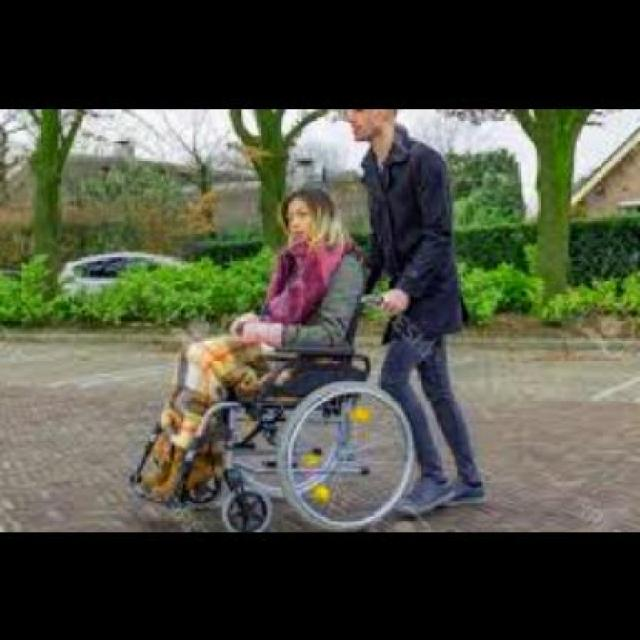wheelchairs: (165, 275, 418, 529)
